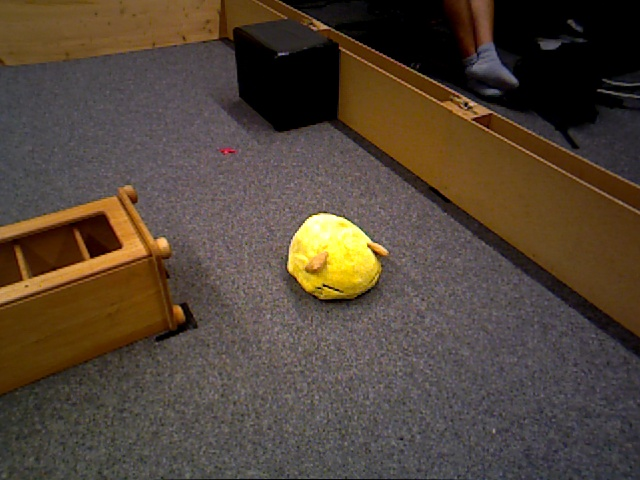grasp: (286, 212, 382, 302)
push: (234, 28, 337, 127)
